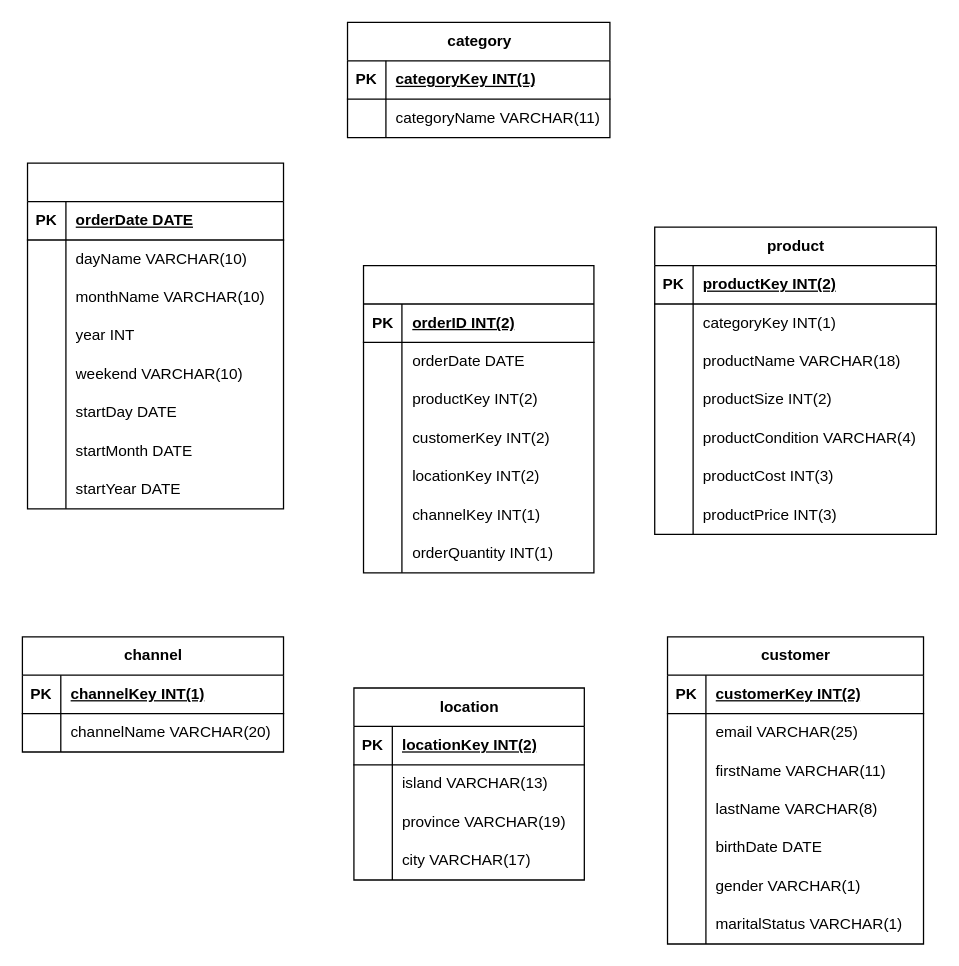
The diagram is 959 pixels wide and 966 high, and some of its shapes have lost their labels. The box of each missing label's shape, as (x1, y1, x2, y2) in pixels:
calendar: (26, 162, 284, 509)
sales: (362, 264, 594, 573)
